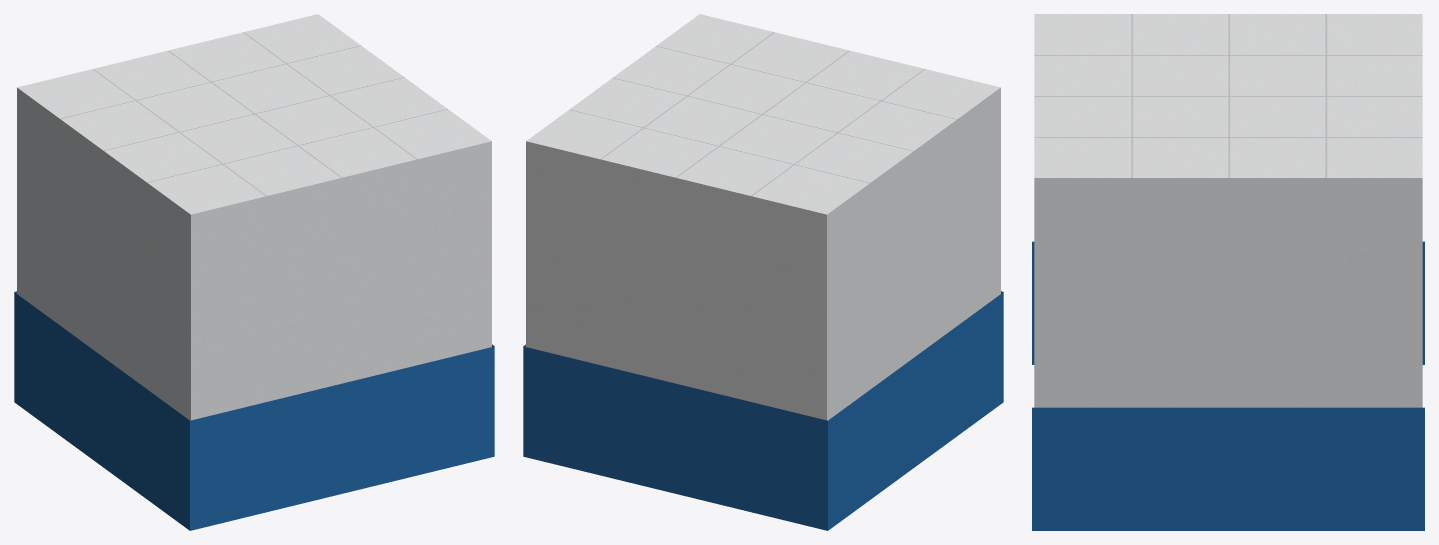
The model's file is clinic-room.dae.
3 views of the same model, side by side, from view 1: azimuth 30°, elevation 25°; view 2: azimuth 150°, elevation 25°; view 3: azimuth 270°, elevation 25° (orthographic). The views are drawn at different scales.
Visible parts, largest first — view 1: clinic-room; view 2: clinic-room; view 3: clinic-room.
Boxes of the visible parts, box(x1,y1,x2,y2) form: clinic-room: box(14, 14, 494, 530); clinic-room: box(523, 14, 1003, 530); clinic-room: box(1032, 14, 1424, 530).
Bounding box in the file's own units: 1.01 × 1 × 1.01.
5 materials, 3 textured.
